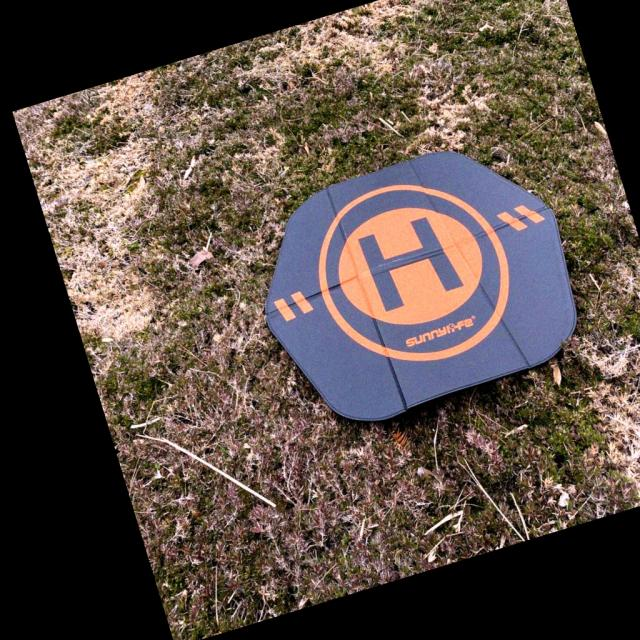helipad: (313, 175, 513, 366)
